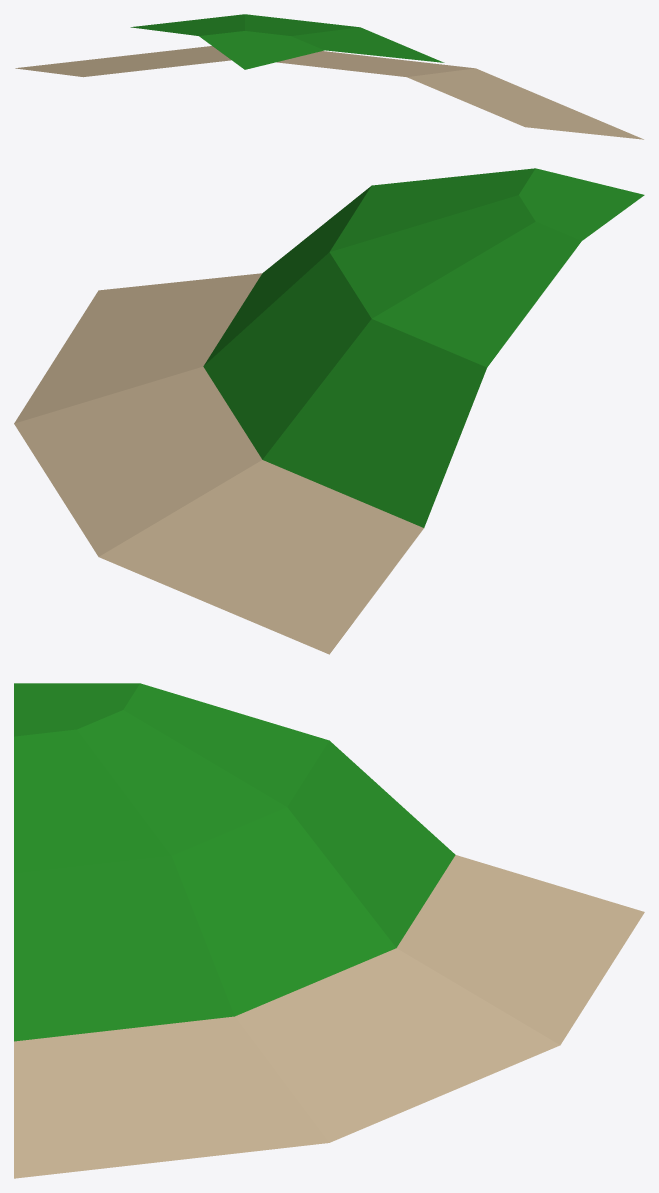
File: Hilly_Terrain_Path_Corner_Inner_1x1.glb
3 renders of one model, top to bottom at view 1: azimuth 30°, elevation 25°; view 2: azimuth 150°, elevation 25°; view 3: azimuth 270°, elevation 25°, orthographic. The views are drawn at different scales.
Parts seen in each view (by area): view 1: Hilly_Terrain_Path_Corner_Inner_1x1; view 2: Hilly_Terrain_Path_Corner_Inner_1x1; view 3: Hilly_Terrain_Path_Corner_Inner_1x1.
Boxes of the visible parts, x1=… form: Hilly_Terrain_Path_Corner_Inner_1x1: x1=15, y1=14, x2=643, y2=139; Hilly_Terrain_Path_Corner_Inner_1x1: x1=14, y1=168, x2=644, y2=654; Hilly_Terrain_Path_Corner_Inner_1x1: x1=14, y1=683, x2=644, y2=1178.
Size of the model in its own units: 0.5 by 0.2 by 0.5.
